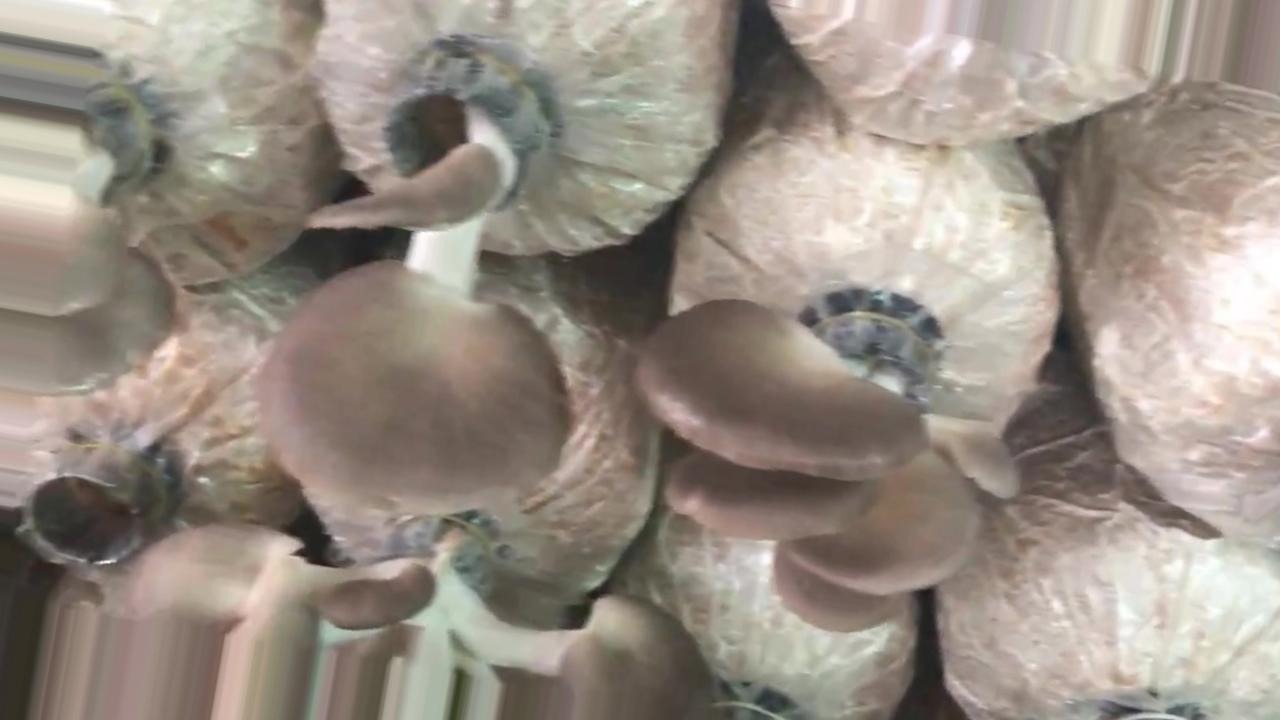nam: (253, 41, 573, 520), (31, 513, 711, 720), (635, 291, 1028, 632), (1, 59, 182, 393)
